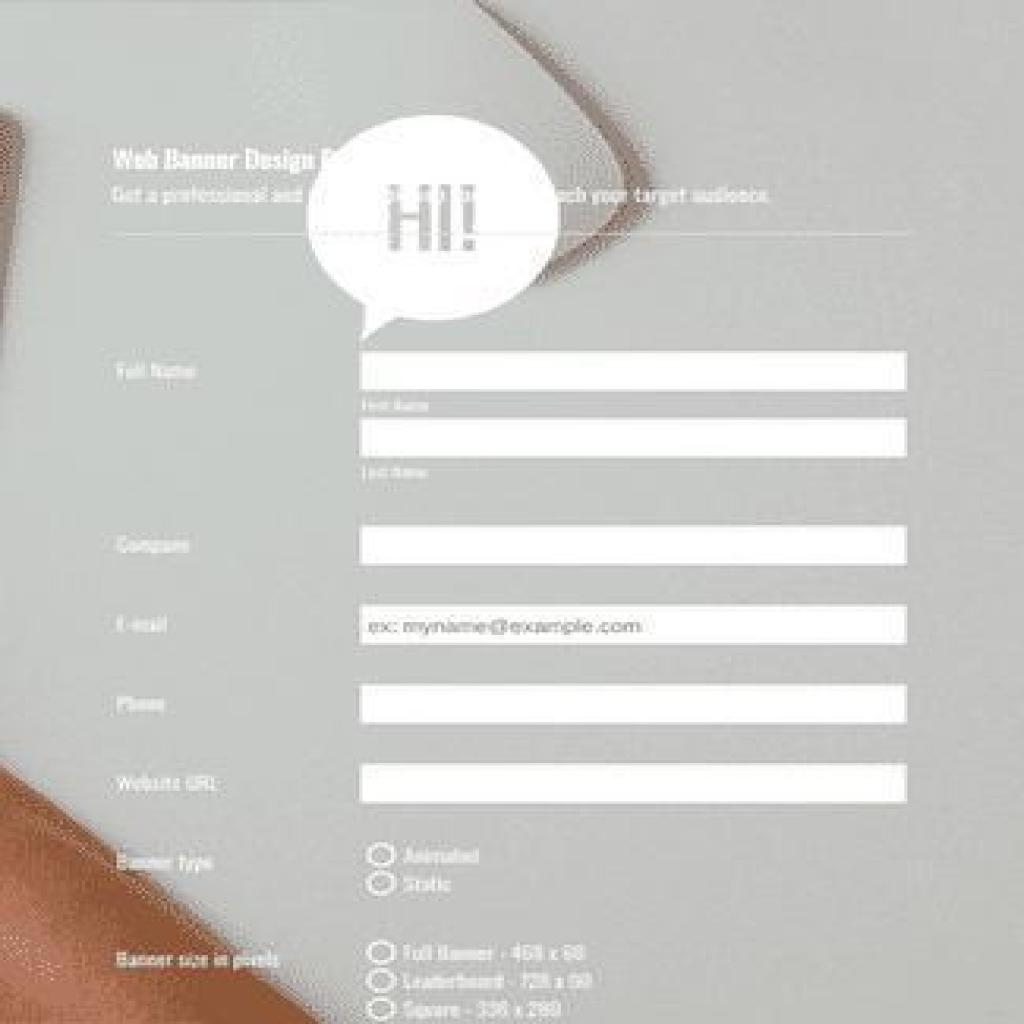input: (356, 599, 914, 653), (356, 760, 914, 812), (353, 520, 914, 571), (356, 346, 914, 396), (356, 681, 914, 730), (353, 415, 914, 461)
label: (403, 970, 602, 996), (400, 940, 589, 965), (114, 947, 280, 973), (403, 1001, 577, 1024), (104, 850, 224, 883), (107, 353, 205, 387), (107, 771, 230, 796), (110, 688, 186, 724), (107, 530, 192, 558), (104, 612, 180, 640), (400, 845, 488, 868), (362, 463, 428, 484), (356, 397, 432, 415), (397, 876, 460, 896)
radio: (366, 996, 400, 1024), (365, 870, 397, 898), (365, 934, 397, 962), (365, 842, 397, 868), (365, 968, 397, 990)
